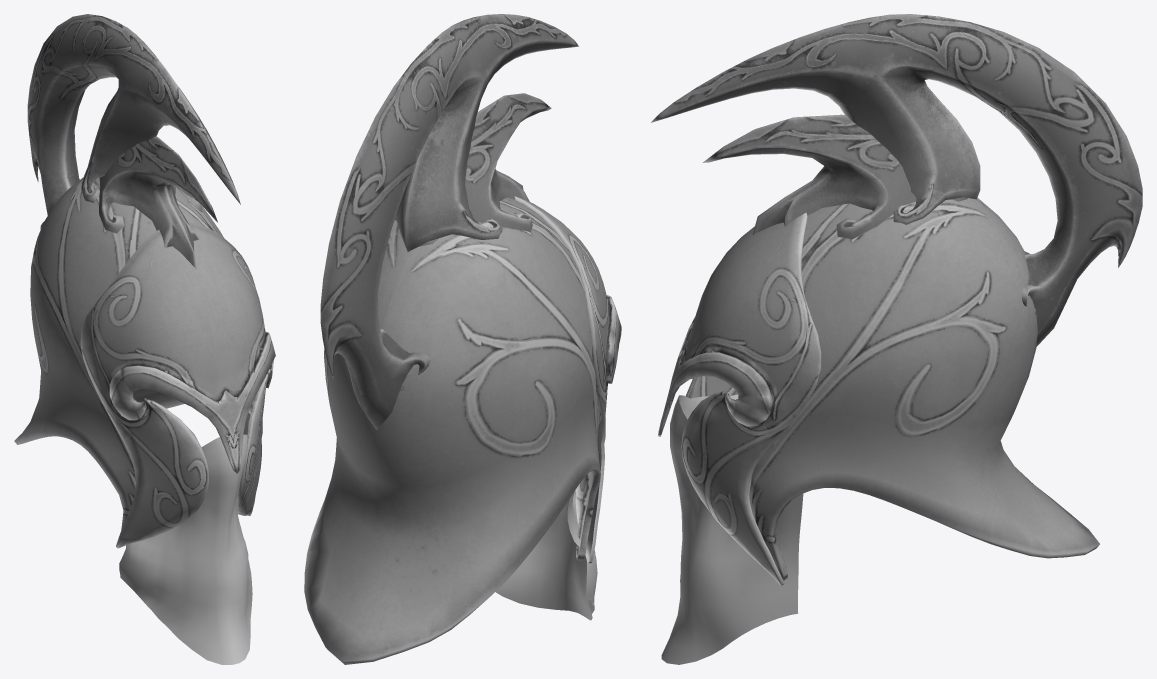
File: rivendell_helmet_elite_silver.fbx
3 views of the same model, side by side, from view 1: azimuth 30°, elevation 25°; view 2: azimuth 150°, elevation 25°; view 3: azimuth 270°, elevation 25° (orthographic). The views are drawn at different scales.
Visible parts, largest first — view 1: rivendell_helmet_elite_silver.1, rivendell_helmet_elite_silver.0, rivendell_helmet_elite_silver.2; view 2: rivendell_helmet_elite_silver.1, rivendell_helmet_elite_silver.0, rivendell_helmet_elite_silver.2; view 3: rivendell_helmet_elite_silver.1, rivendell_helmet_elite_silver.0, rivendell_helmet_elite_silver.2.
Part boxes in pixels (<box>): rivendell_helmet_elite_silver.1: <box>14,177,275,548</box>; rivendell_helmet_elite_silver.0: <box>27,14,240,269</box>; rivendell_helmet_elite_silver.2: <box>119,413,252,664</box>; rivendell_helmet_elite_silver.1: <box>304,196,621,664</box>; rivendell_helmet_elite_silver.0: <box>320,14,578,429</box>; rivendell_helmet_elite_silver.2: <box>495,413,599,620</box>; rivendell_helmet_elite_silver.1: <box>658,198,1099,585</box>; rivendell_helmet_elite_silver.0: <box>651,14,1142,346</box>; rivendell_helmet_elite_silver.2: <box>661,394,803,664</box>.
Size of the model in its own units: 0.1912 by 0.3902 by 0.5621.
